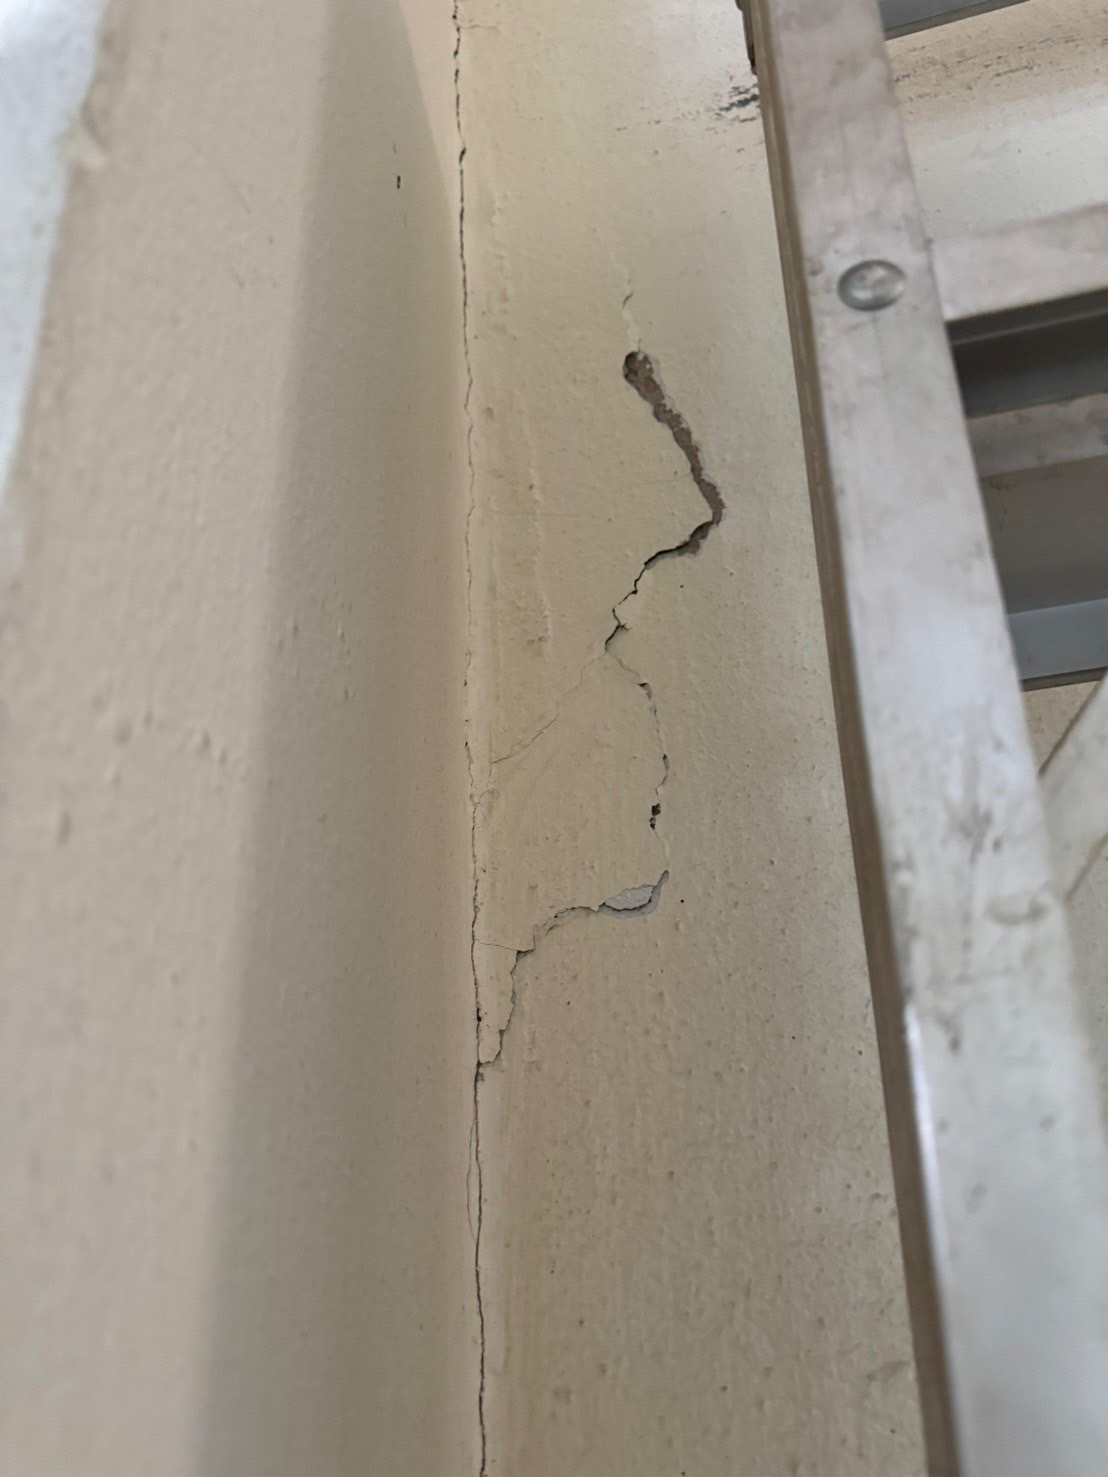Low: (476, 275, 790, 1149)
